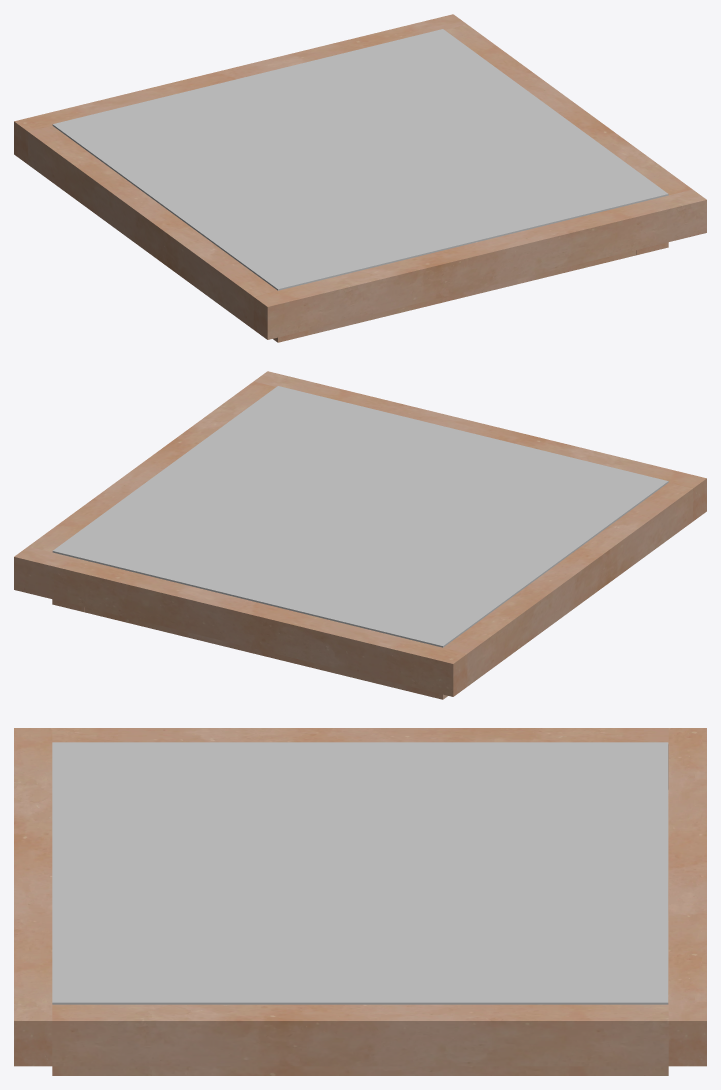
3 views of the same model, one above another, from view 1: azimuth 30°, elevation 25°; view 2: azimuth 150°, elevation 25°; view 3: azimuth 270°, elevation 25° (orthographic). The views are drawn at different scales.
Visible parts, largest first — view 1: SM_BB_T4_Floor_Large_01_LOD0; view 2: SM_BB_T4_Floor_Large_01_LOD0; view 3: SM_BB_T4_Floor_Large_01_LOD0.
Part boxes in pixels (box(x1,y1,x2,y2)): SM_BB_T4_Floor_Large_01_LOD0: box(14, 14, 706, 342); SM_BB_T4_Floor_Large_01_LOD0: box(14, 371, 706, 699); SM_BB_T4_Floor_Large_01_LOD0: box(14, 728, 706, 1075).
Size of the model in its own units: 3.38 by 0.3933 by 3.38.
